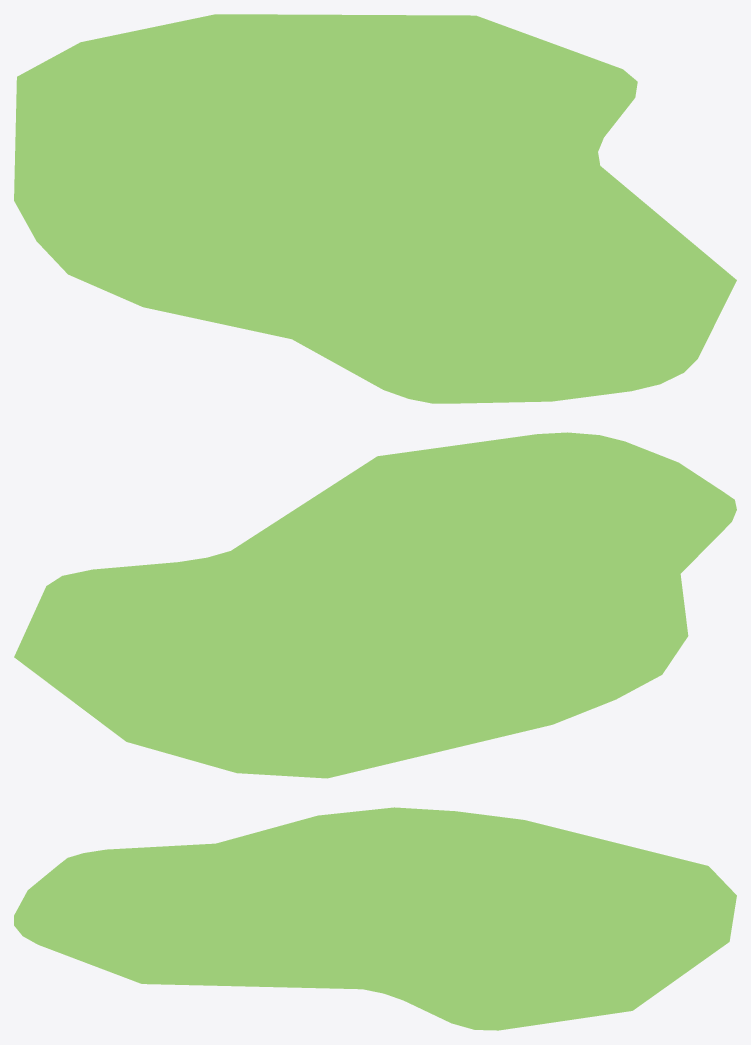
File: IslandNeutral1.001.fbx
The picture shows the model from 3 angles, top to bottom: view 1: azimuth 30°, elevation 25°; view 2: azimuth 150°, elevation 25°; view 3: azimuth 270°, elevation 25°; orthographic projection. The views are drawn at different scales.
Visible parts, largest first — view 1: IslandNeutral1.001; view 2: IslandNeutral1.001; view 3: IslandNeutral1.001.
Boxes of the visible parts, x1=… form: IslandNeutral1.001: x1=14, y1=14, x2=736, y2=403; IslandNeutral1.001: x1=14, y1=432, x2=736, y2=778; IslandNeutral1.001: x1=14, y1=807, x2=736, y2=1030.
Bounding box in the file's own units: 12.78 × 0 × 9.33.
